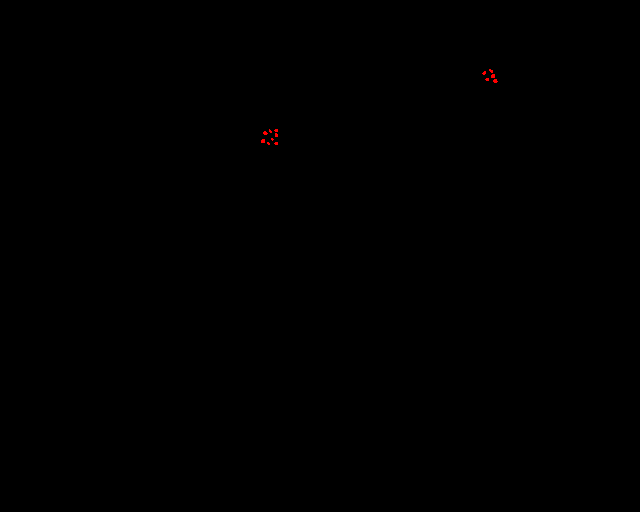Target: (493, 79, 498, 83), (263, 131, 268, 135), (489, 69, 493, 73), (482, 71, 486, 75), (491, 74, 495, 78), (261, 139, 265, 143), (485, 78, 489, 81), (269, 129, 272, 133), (274, 129, 278, 132), (275, 133, 278, 137), (274, 142, 278, 145), (271, 138, 274, 141), (267, 142, 270, 145)
